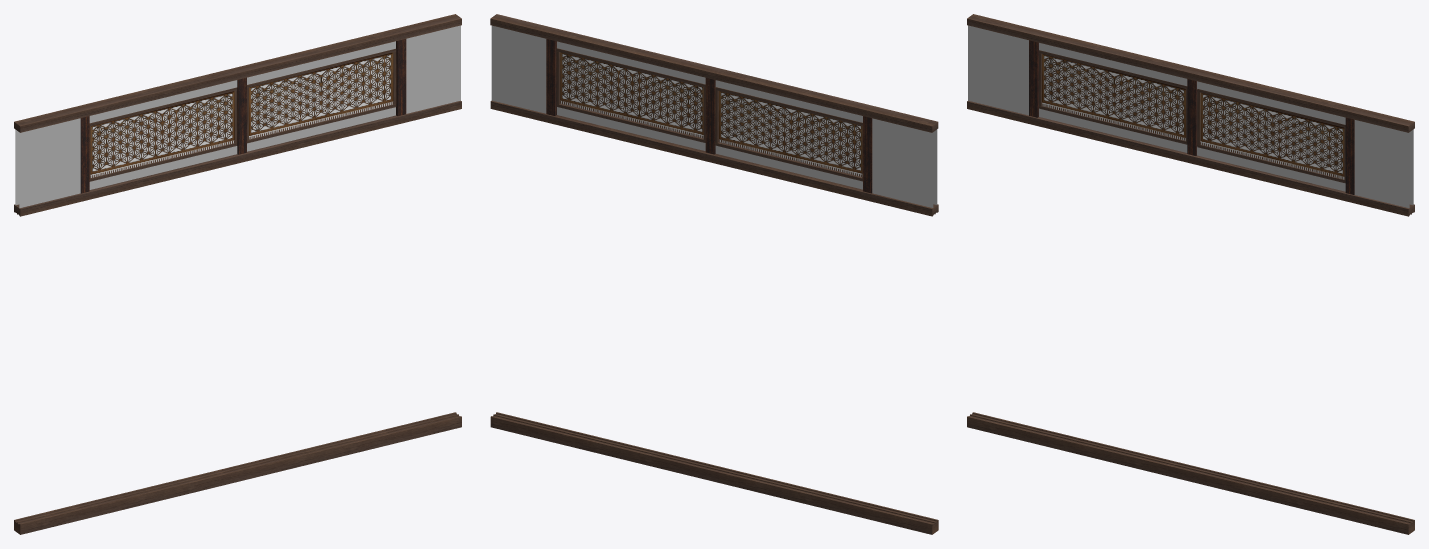
File: jov_inwall_ranma_1.5t05.fbx
3 renders of one model, left to right at view 1: azimuth 30°, elevation 25°; view 2: azimuth 150°, elevation 25°; view 3: azimuth 330°, elevation 25°, orthographic.
Visible parts, largest first — view 1: jov_inwall_ranma_1.5t05; view 2: jov_inwall_ranma_1.5t05; view 3: jov_inwall_ranma_1.5t05.
Boxes of the visible parts, box(x1,y1,x2,y2) form: jov_inwall_ranma_1.5t05: box(14, 14, 461, 534); jov_inwall_ranma_1.5t05: box(490, 14, 938, 534); jov_inwall_ranma_1.5t05: box(967, 14, 1414, 534).
Bounding box in the file's own units: 330 × 292 × 8.22.
